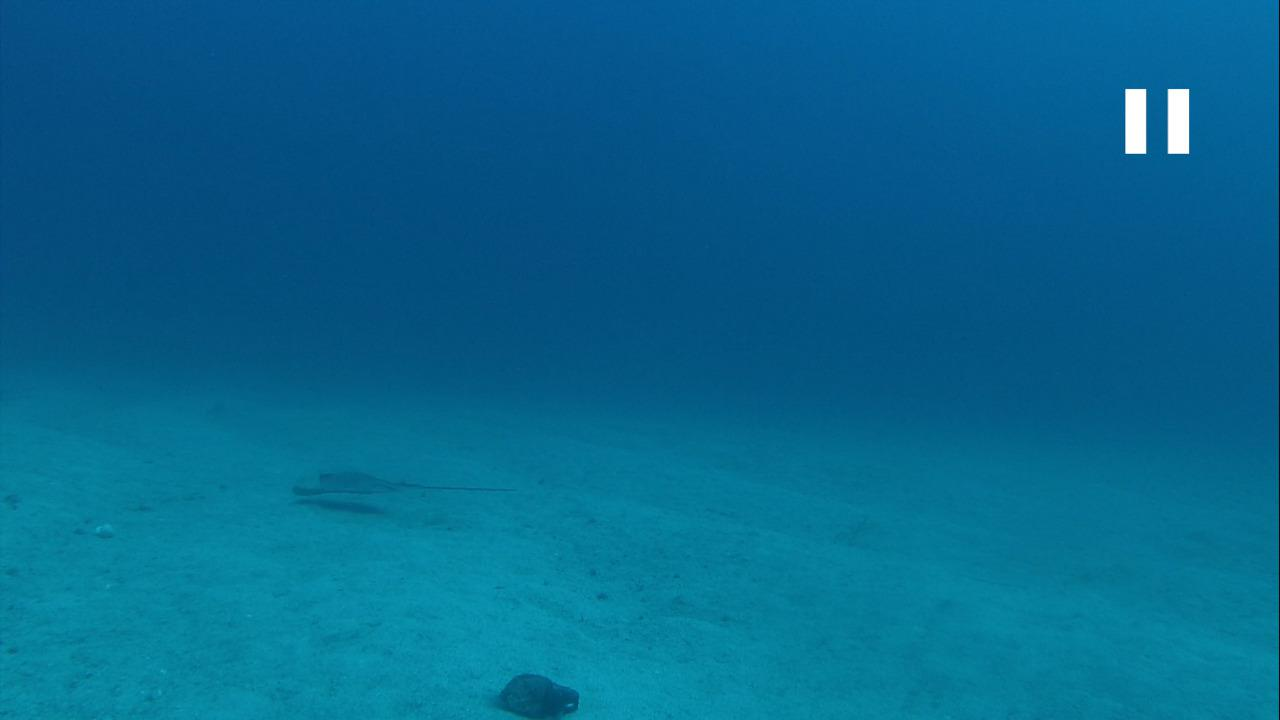myliobatis: (284, 463, 523, 517)
